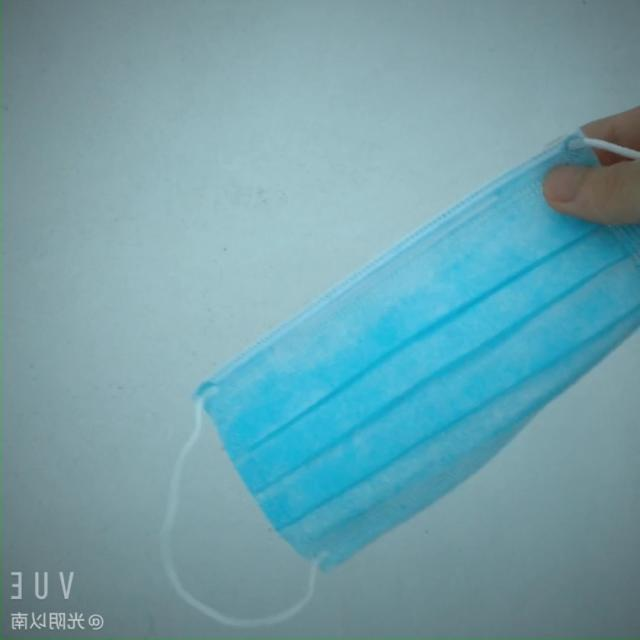face mask: (185, 139, 640, 572)
